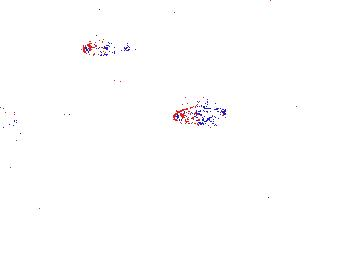red belly glassfish: (172, 104, 228, 126), (81, 39, 132, 57)
redtail glassfish: (64, 3, 127, 33)
